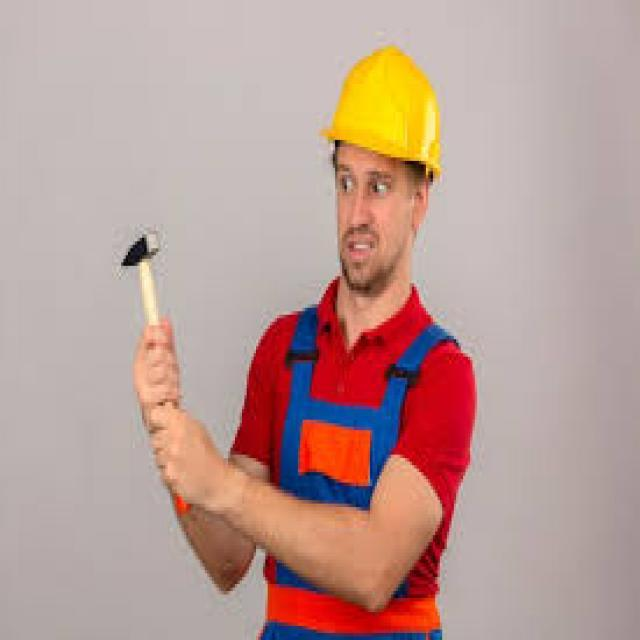hammer: (114, 222, 182, 404)
